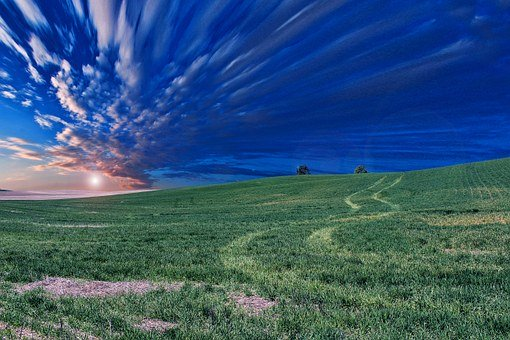field: (4, 184, 508, 340)
sky: (2, 1, 510, 191)
